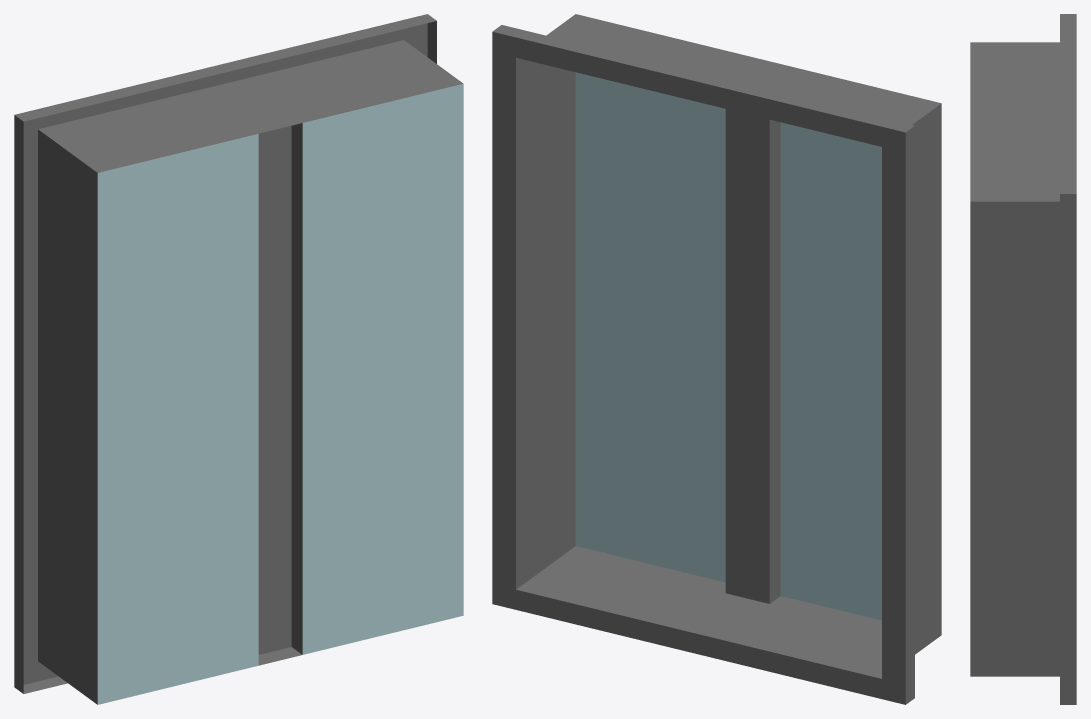
Rendered from New_window_1.fbx.
The picture shows the model from 3 angles, left to right: view 1: azimuth 30°, elevation 25°; view 2: azimuth 150°, elevation 25°; view 3: azimuth 270°, elevation 25°; orthographic projection. The views are drawn at different scales.
Parts seen in each view (by area): view 1: New_window_1; view 2: New_window_1; view 3: New_window_1.
Part boxes in pixels (x1,y1,x2,y2): New_window_1: [14, 14, 463, 704]; New_window_1: [492, 14, 941, 704]; New_window_1: [970, 14, 1076, 704].
Size of the model in its own units: 2.39 by 0.5974 by 3.16.
